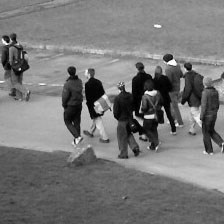person: (114, 81, 141, 160), (199, 72, 224, 154), (84, 66, 110, 144), (60, 64, 84, 148), (180, 62, 206, 135), (131, 61, 154, 143), (152, 65, 177, 135), (162, 53, 184, 129), (140, 78, 161, 152), (9, 32, 31, 100), (1, 34, 17, 97)
